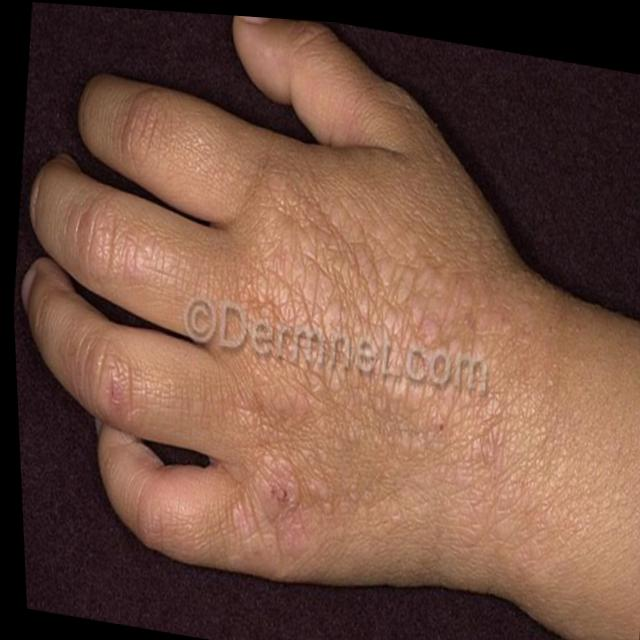liquenificacion 1: (244, 173, 498, 507)
